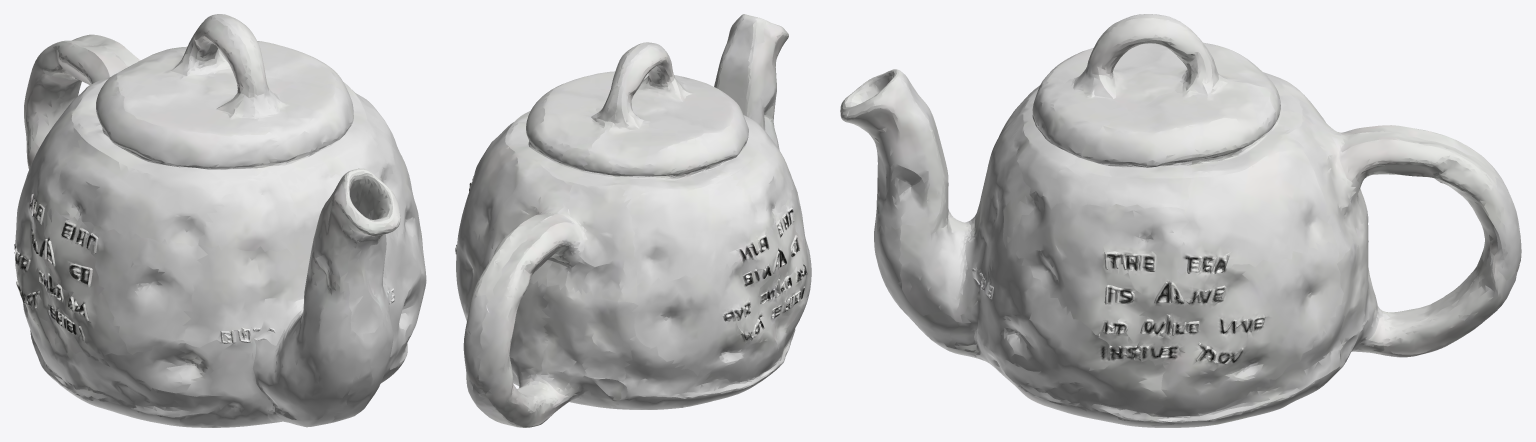
The model's file is 08_18_ds-ss_tat_teapot-v2.glb.
The picture shows the model from 3 angles, left to right: view 1: azimuth 30°, elevation 25°; view 2: azimuth 150°, elevation 25°; view 3: azimuth 270°, elevation 25°; orthographic projection. The views are drawn at different scales.
Visible parts, largest first — view 1: tripo_node_ff2c3d64-8c1f-4c90-9e85-595a46bd40b8; view 2: tripo_node_ff2c3d64-8c1f-4c90-9e85-595a46bd40b8; view 3: tripo_node_ff2c3d64-8c1f-4c90-9e85-595a46bd40b8.
Boxes of the visible parts, box(x1,y1,x2,y2) form: tripo_node_ff2c3d64-8c1f-4c90-9e85-595a46bd40b8: box(14, 14, 426, 427); tripo_node_ff2c3d64-8c1f-4c90-9e85-595a46bd40b8: box(455, 14, 811, 427); tripo_node_ff2c3d64-8c1f-4c90-9e85-595a46bd40b8: box(840, 14, 1521, 427).
Bounding box in the file's own units: 0.13 × 0.1273 × 0.2244.
1 material, 1 textured.
